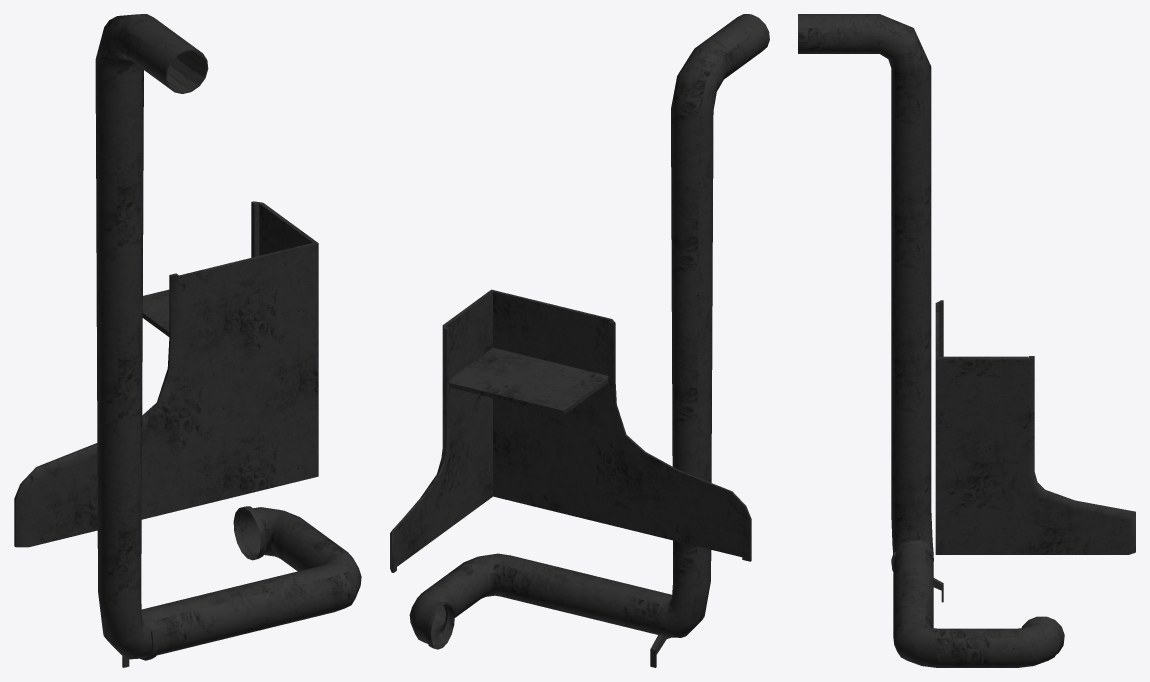
File: StoveTopA.fbx
The picture shows the model from 3 angles, left to right: view 1: azimuth 30°, elevation 25°; view 2: azimuth 150°, elevation 25°; view 3: azimuth 270°, elevation 25°; orthographic projection. The views are drawn at different scales.
Parts seen in each view (by area): view 1: StoveTopA; view 2: StoveTopA; view 3: StoveTopA.
Part boxes in pixels (x1,y1,x2,y2): StoveTopA: (14, 14, 361, 667); StoveTopA: (390, 14, 769, 667); StoveTopA: (798, 14, 1135, 667).
Bounding box in the file's own units: 114 × 221 × 118.
